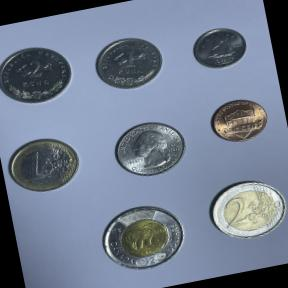coin: (92, 194, 196, 280), (104, 112, 196, 187), (201, 171, 288, 249), (0, 128, 87, 199), (0, 36, 80, 113), (203, 90, 275, 150), (184, 20, 255, 75)
